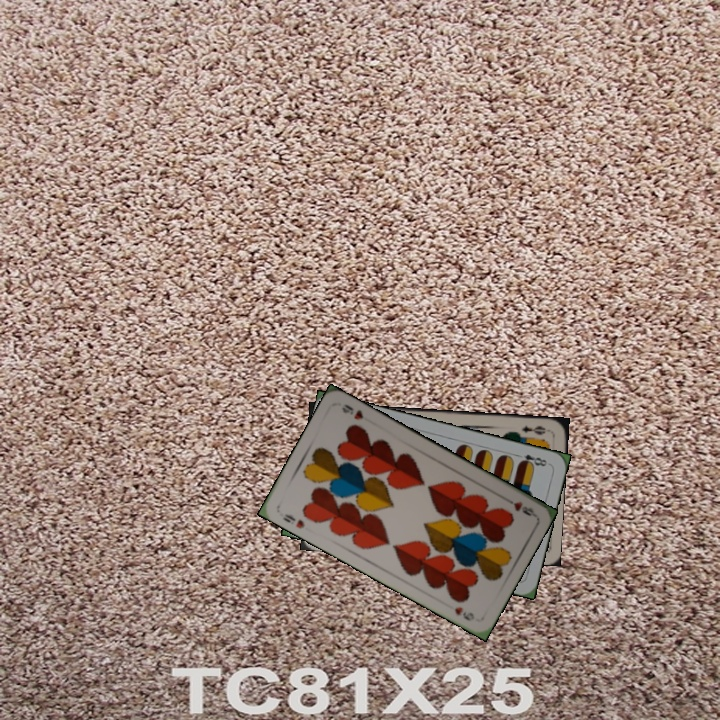E8: (512, 450, 550, 469)
EO: (517, 422, 548, 438)
H9: (499, 493, 537, 519), (279, 510, 307, 531)
